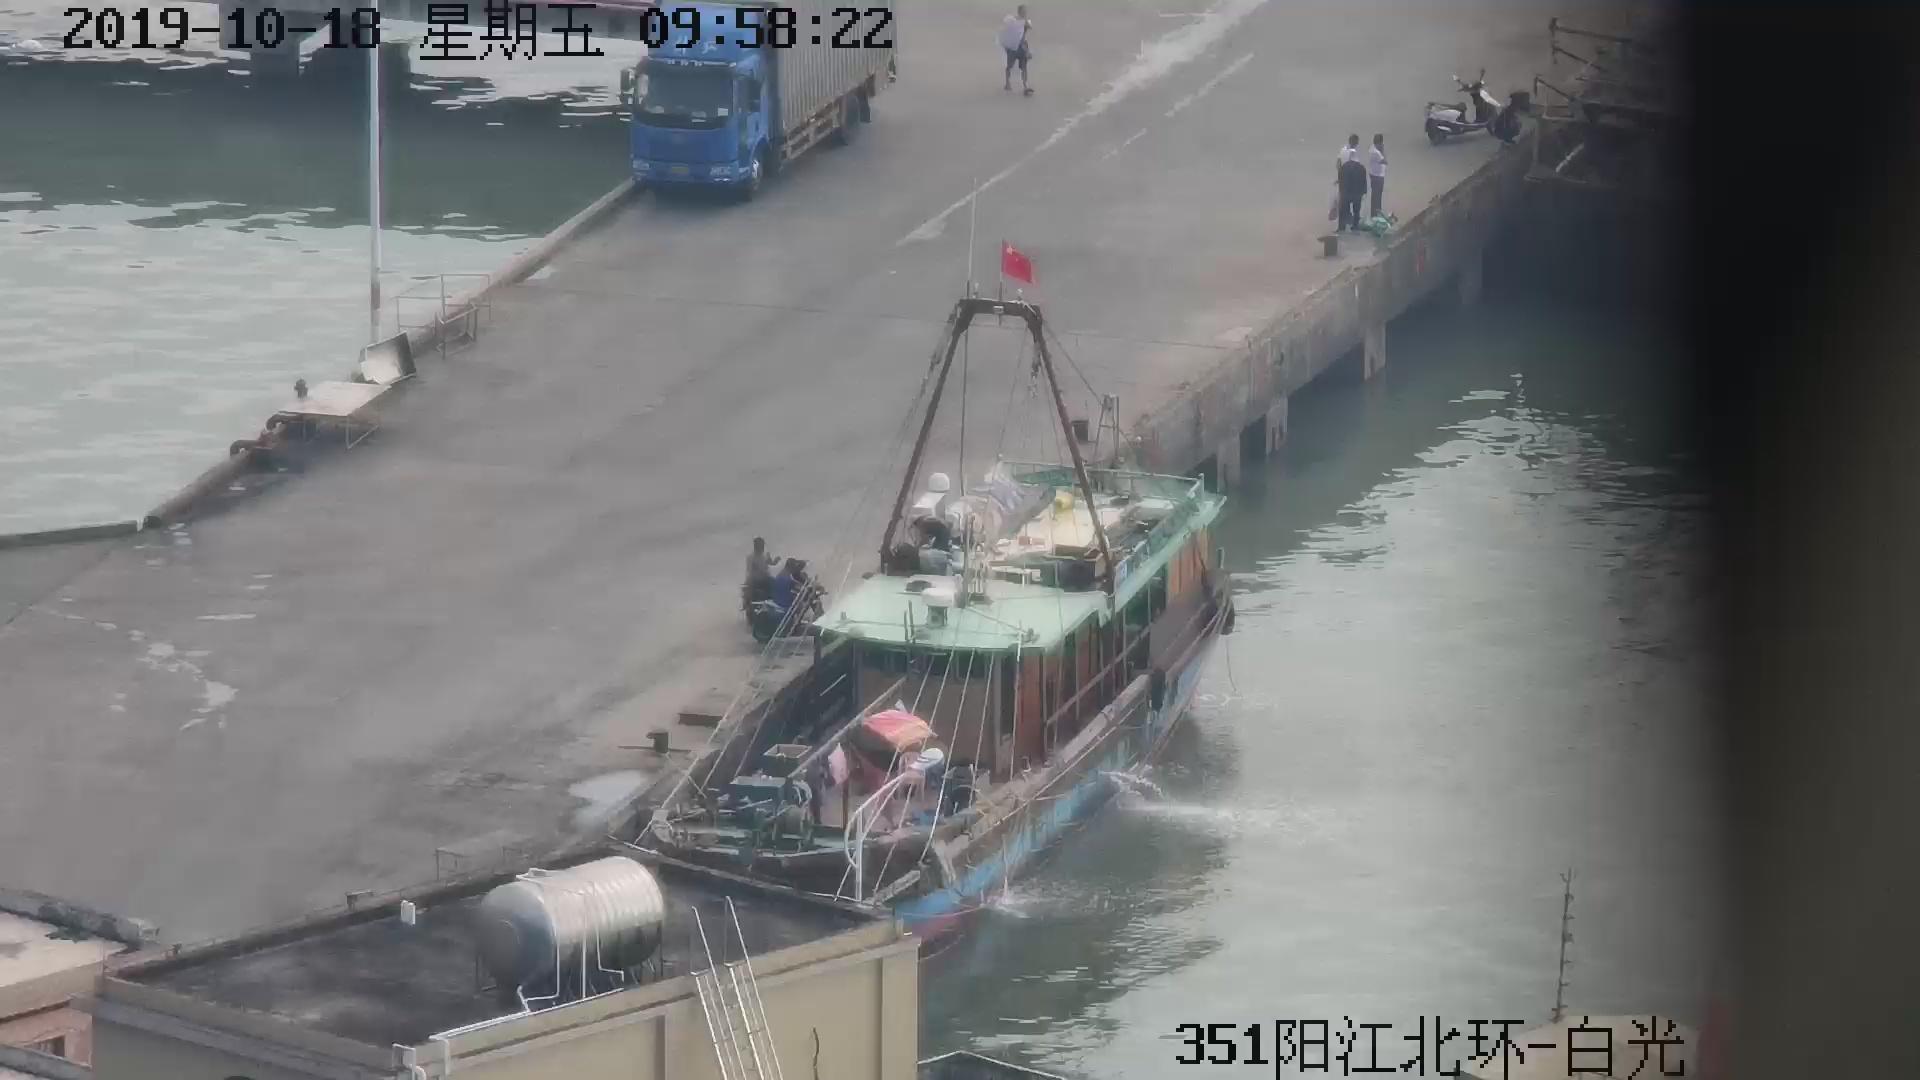ship: (676, 295, 1244, 920)
